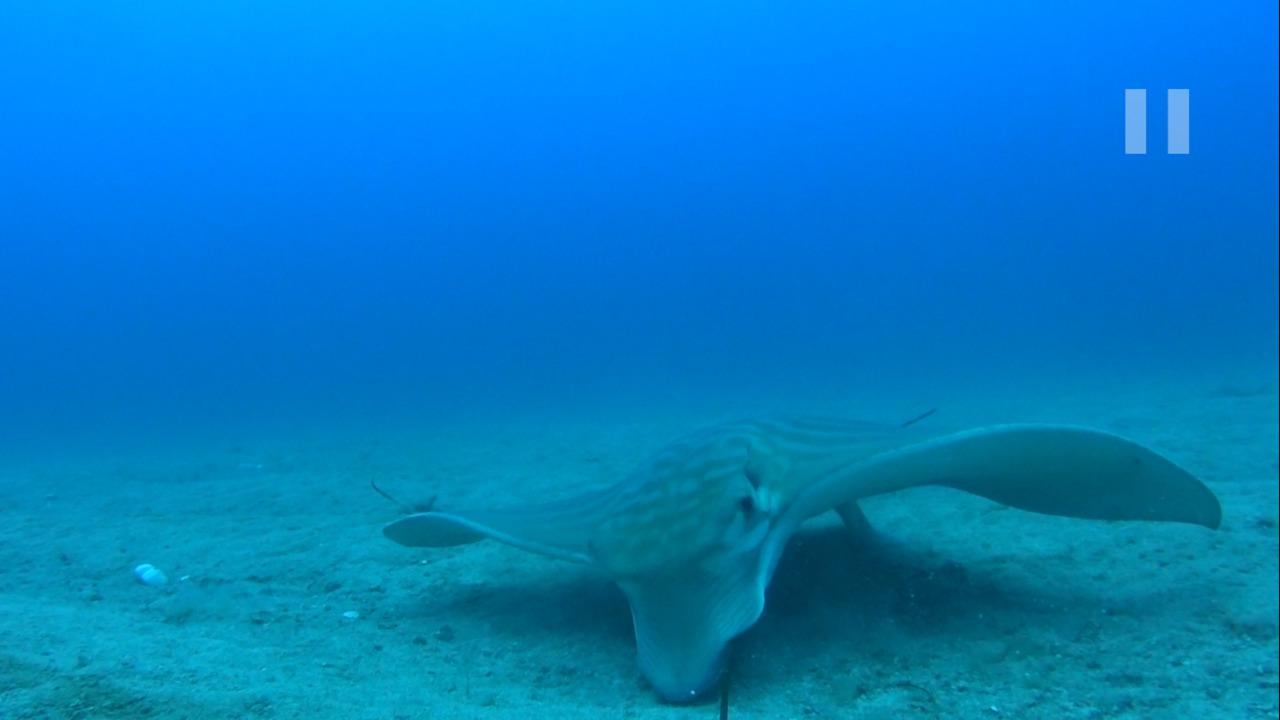myliobatis: (372, 402, 1235, 714)
